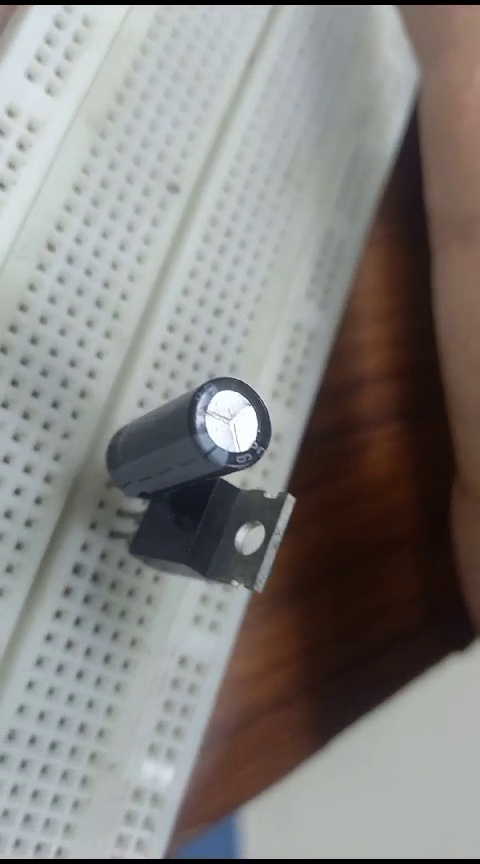capacitor: (92, 364, 278, 492)
voltage regulator: (135, 453, 314, 597)
